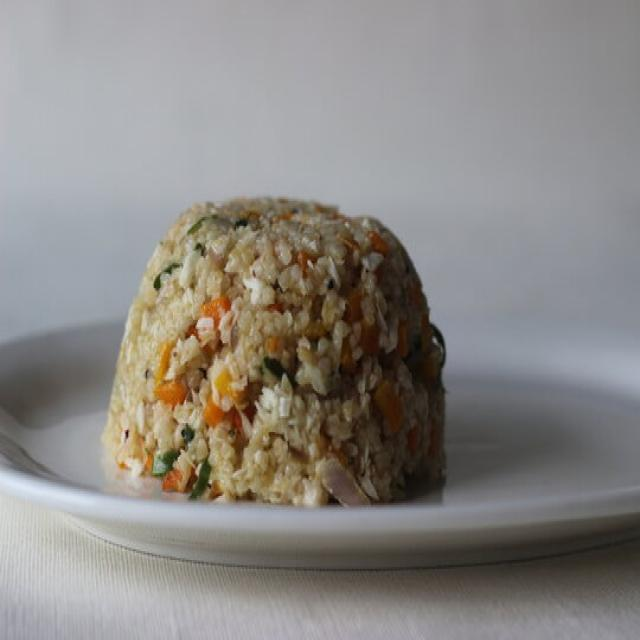UPMA: (106, 202, 444, 510)
